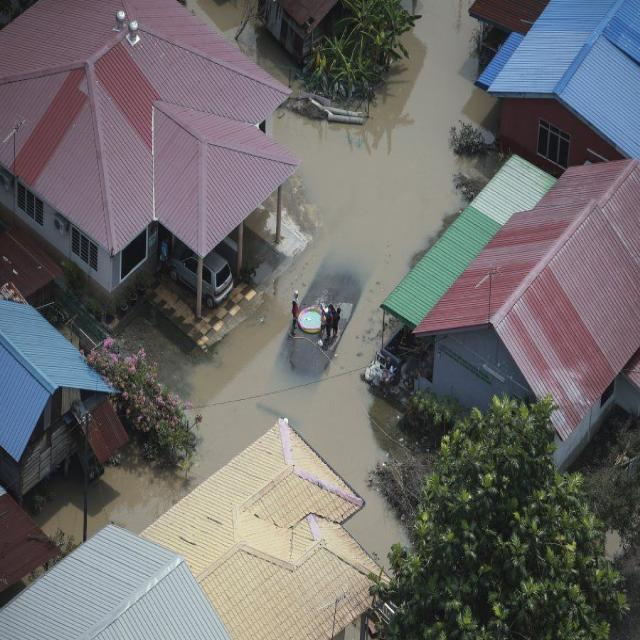flooded_areas: (5, 5, 592, 571)
